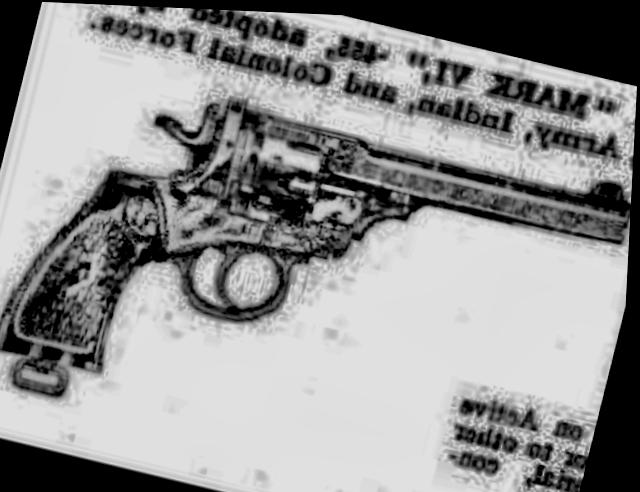pistol: (0, 43, 638, 483)
